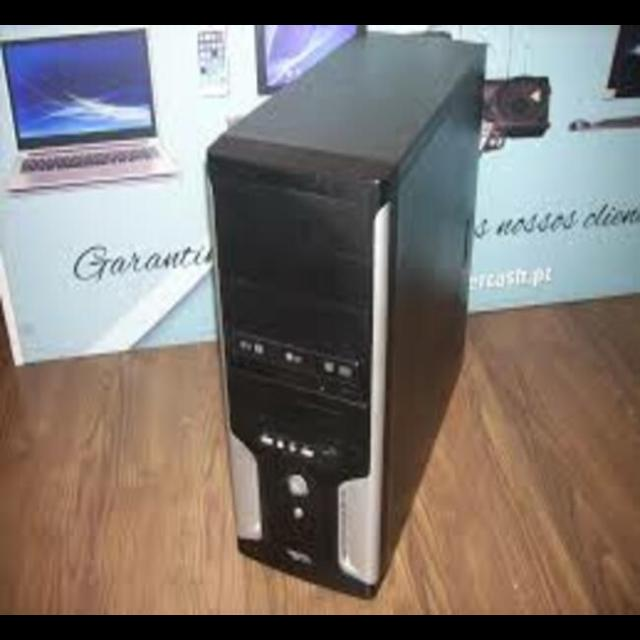Desktop-PC: (207, 42, 488, 598)
